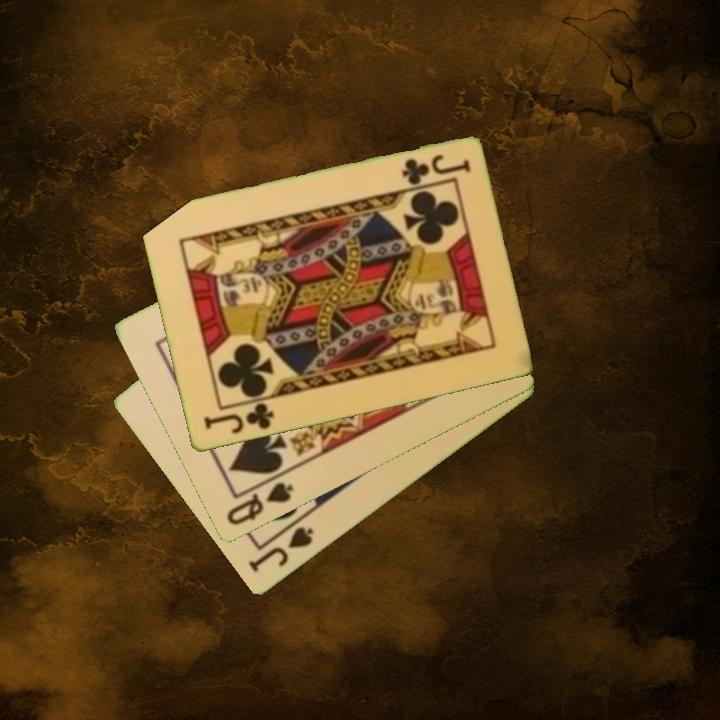Jc: (199, 399, 277, 438), (398, 151, 473, 188)
Js: (244, 523, 317, 576)
Qs: (222, 479, 297, 529)
